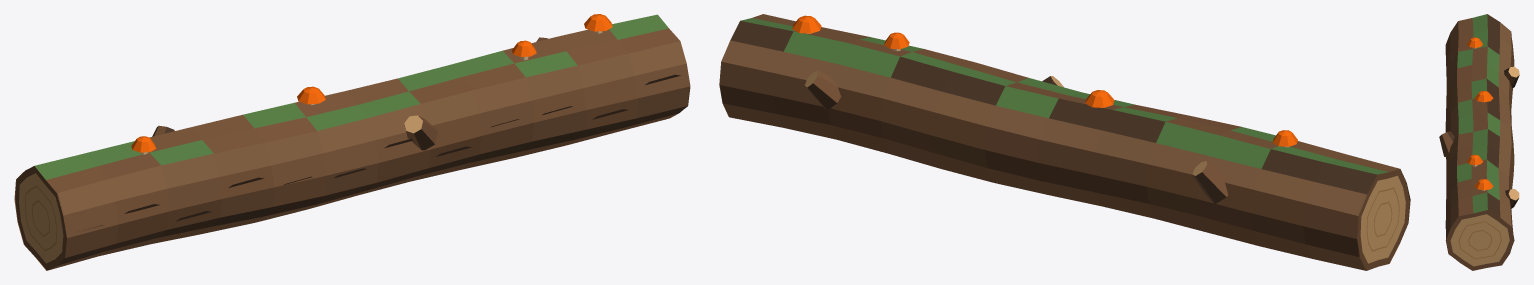
File: log_three_lane.glb
3 renders of one model, left to right at view 1: azimuth 30°, elevation 25°; view 2: azimuth 150°, elevation 25°; view 3: azimuth 270°, elevation 25°, orthographic. The views are drawn at different scales.
Visible parts, largest first — view 1: log_three_lane; view 2: log_three_lane; view 3: log_three_lane.
Part boxes in pixels (x1,y1,x2,y2): log_three_lane: [14, 14, 690, 270]; log_three_lane: [719, 14, 1410, 270]; log_three_lane: [1439, 14, 1519, 270].
Size of the model in its own units: 7.2 by 1.25 by 1.26.
